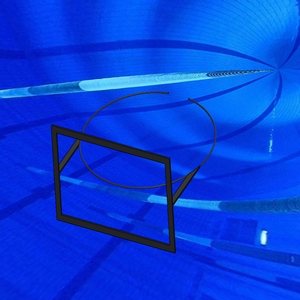circle: (50, 91, 217, 255)
